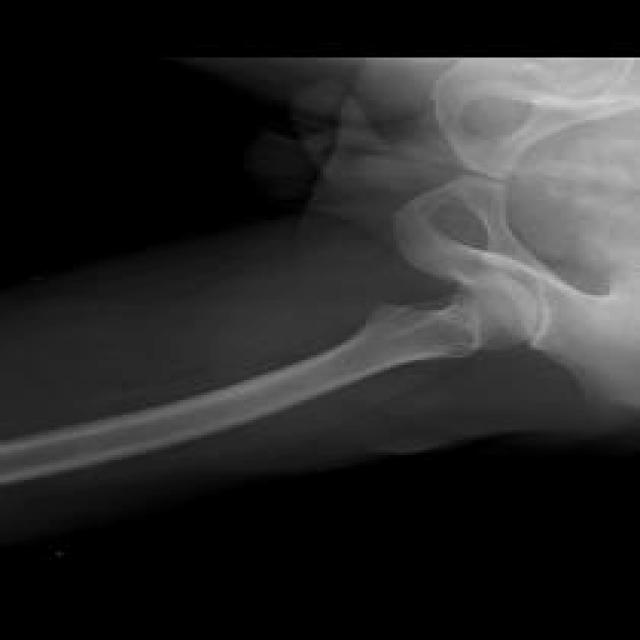normal: (0, 60, 640, 481)
